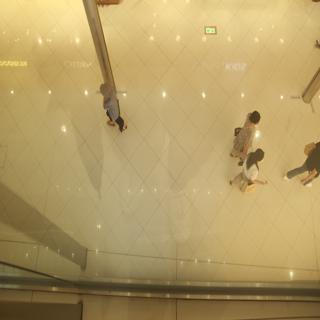person: (94, 76, 129, 137), (229, 102, 266, 159), (233, 147, 267, 201)
